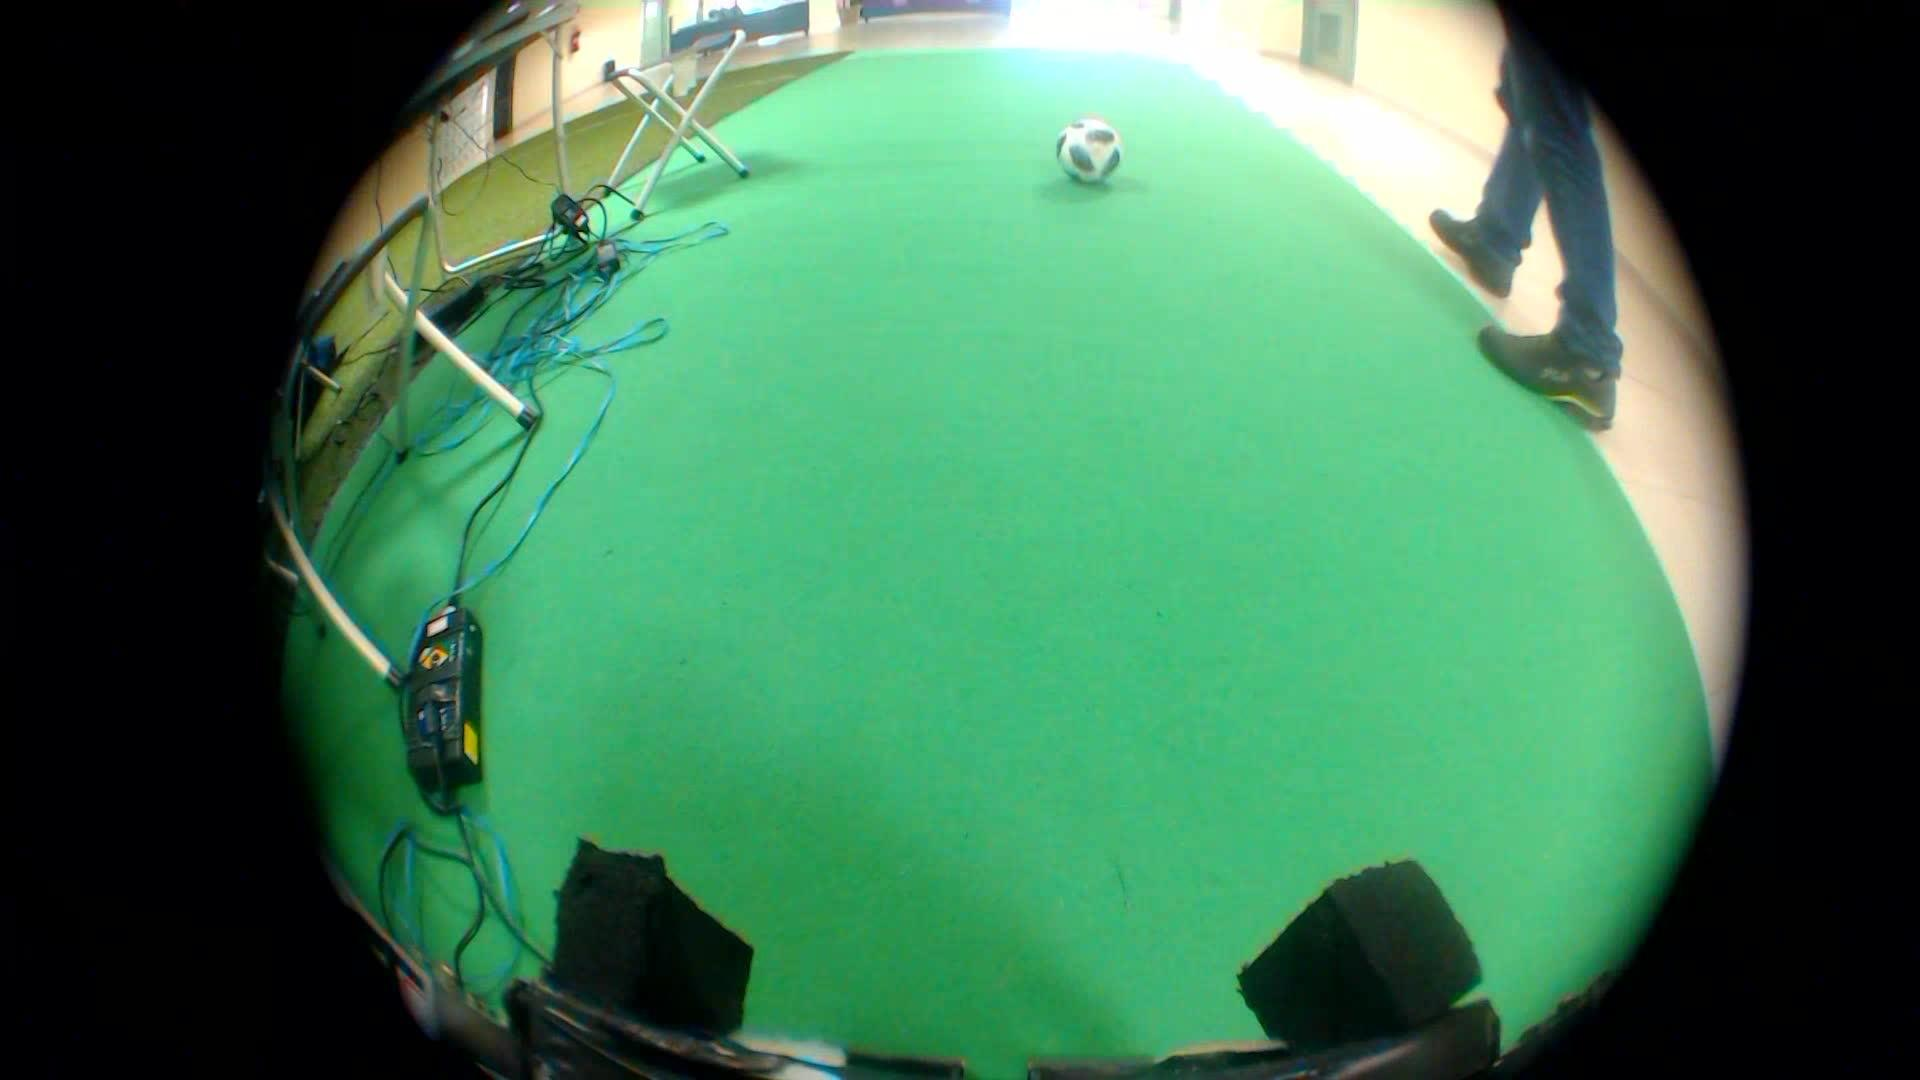ball: (1051, 100, 1135, 189)
